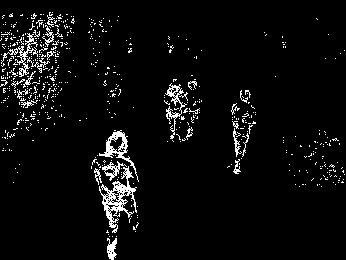person: (90, 129, 139, 260), (230, 87, 257, 176), (164, 76, 187, 142), (184, 78, 203, 145)
